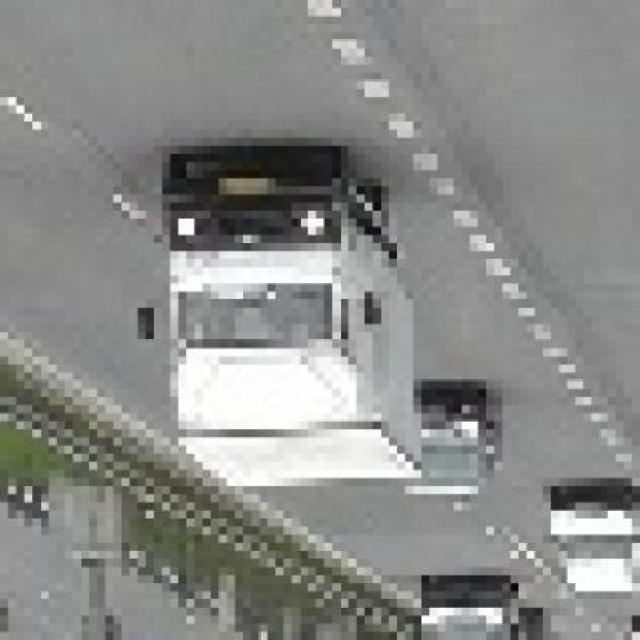truck: (131, 155, 406, 495)
